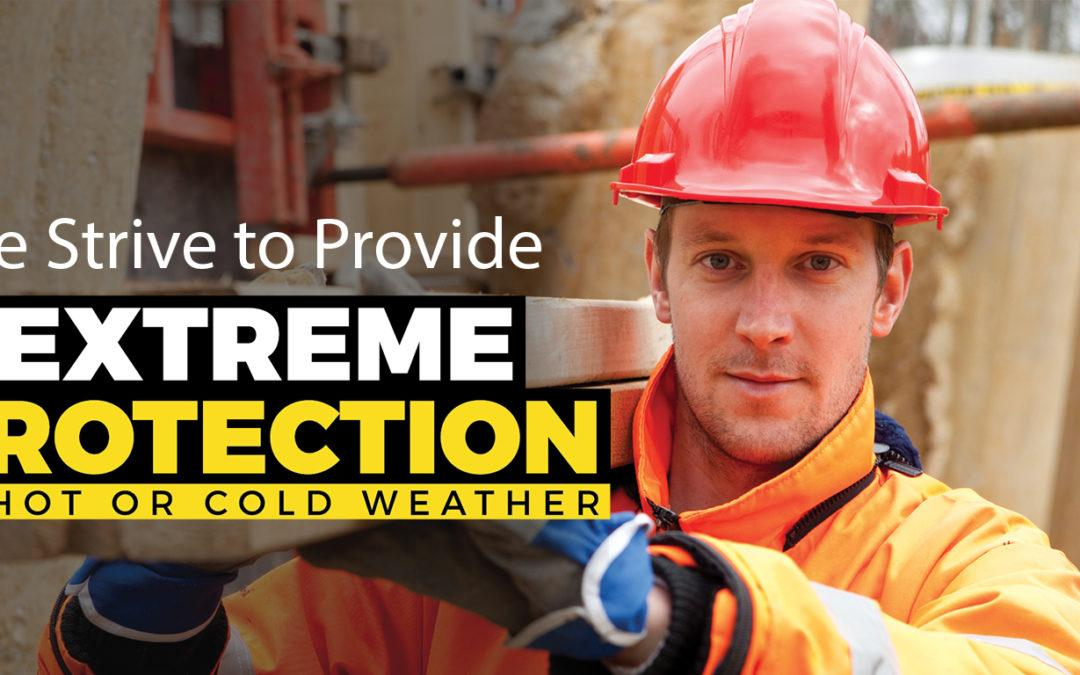helmet: (612, 2, 948, 222)
